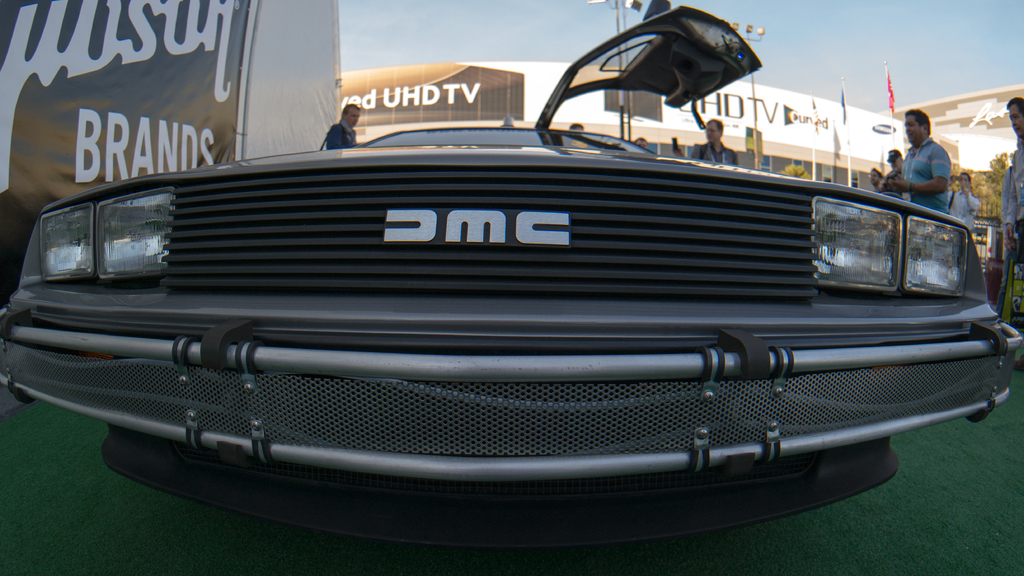Car: (0, 3, 1023, 555)
